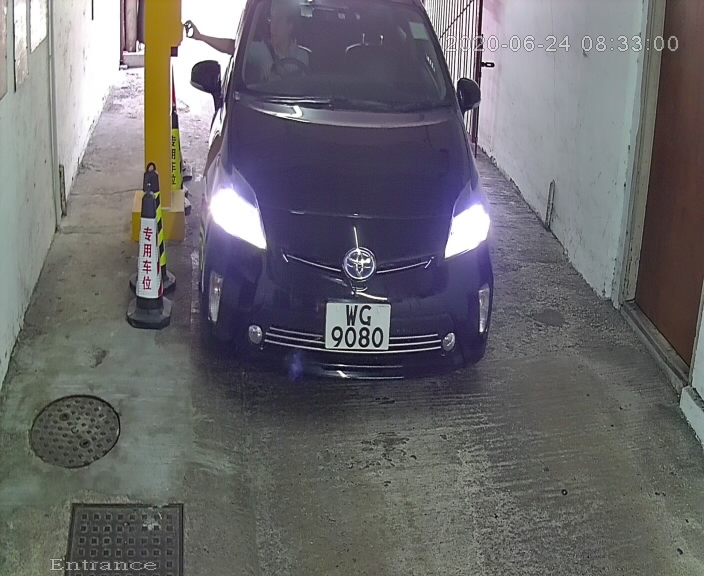privatecar: (172, 1, 515, 391)
